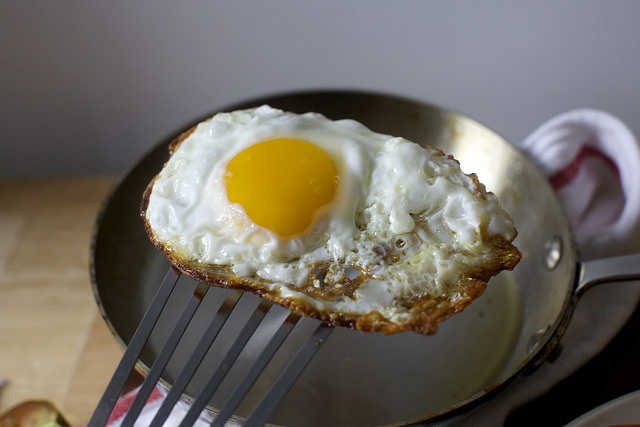fried egg: (175, 106, 467, 324)
